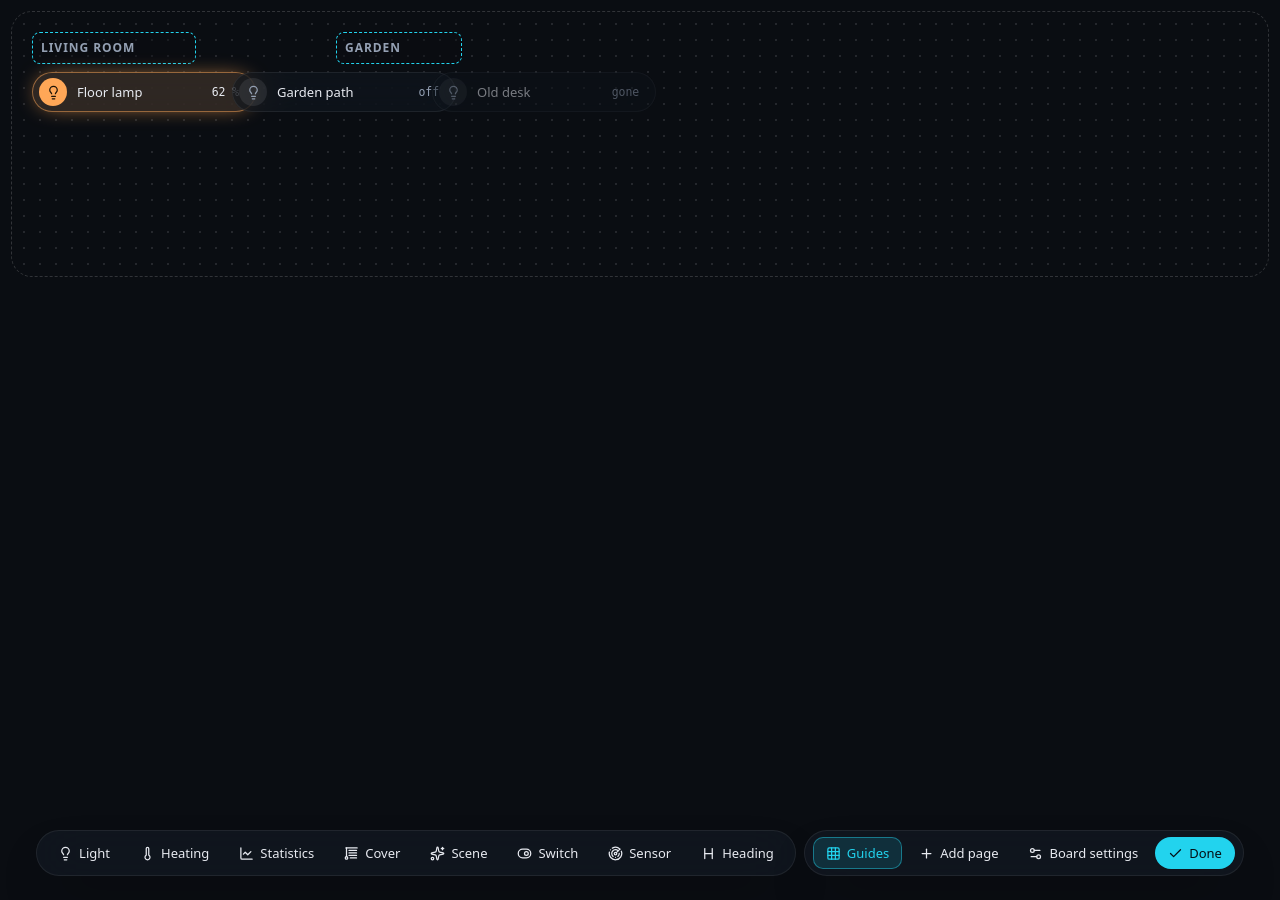
Test: says why no lamps can be offered
Expected: the text "Floor lamp" is shown, [77,83,142,101]
Click the button "Light": (84, 853) [45,837,123,869]
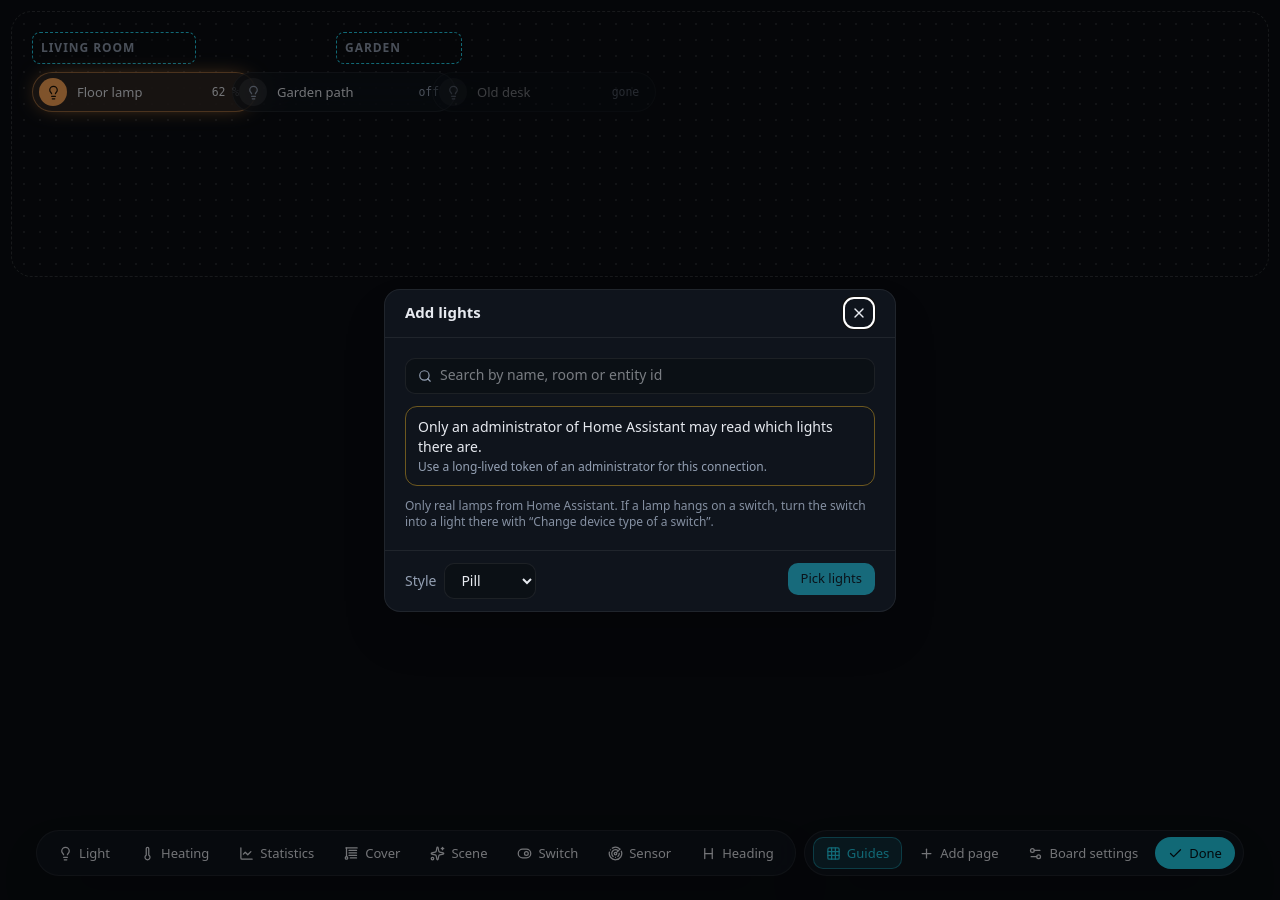
Expected: the text "Only an administrator of Home Assistant may read which lights there are." is shown, [418,416,862,456]
Expected: the text "Use a long-lived token of an administrator for this connection." is shown, [418,458,767,474]
